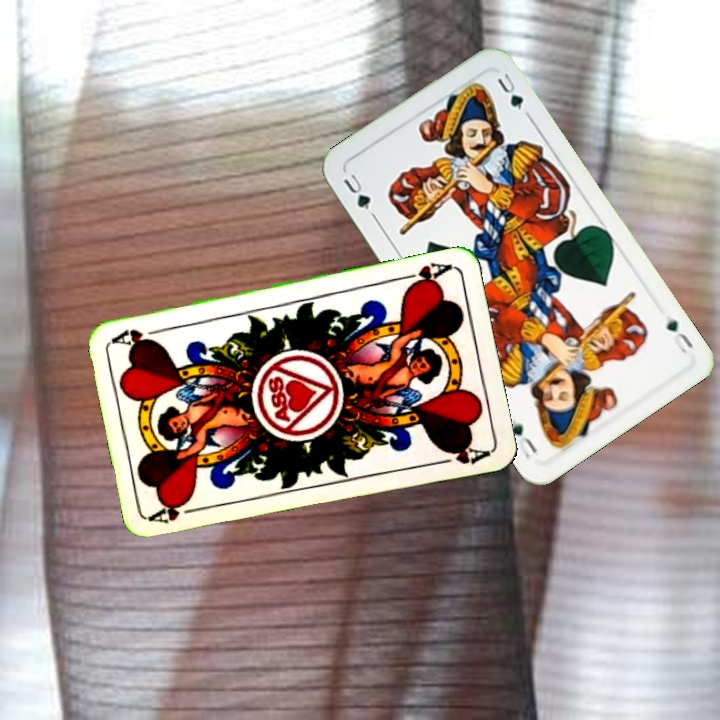GU: (339, 169, 373, 213), (662, 314, 696, 357)
HA: (395, 258, 454, 291), (147, 498, 207, 527)
